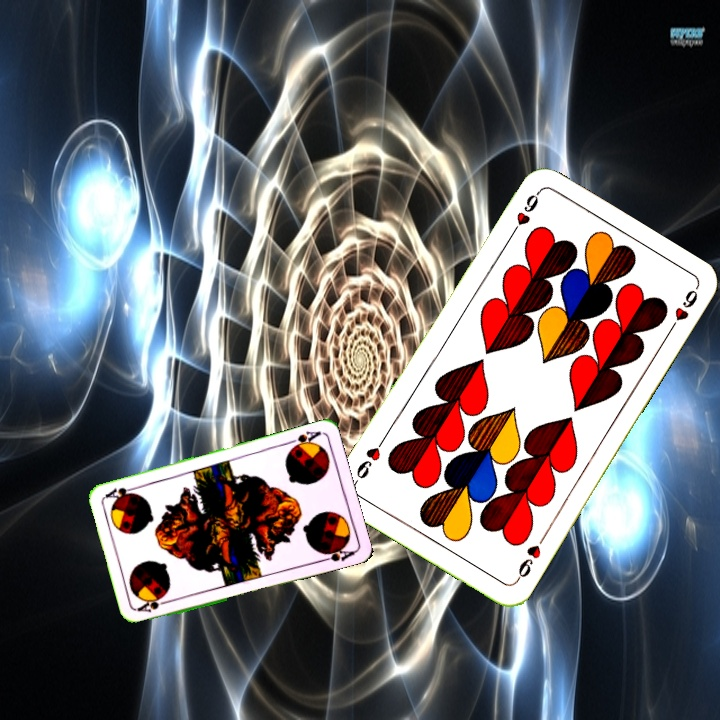H9: (511, 532, 548, 585), (505, 188, 542, 241)
SA: (283, 427, 323, 453), (134, 593, 174, 615)
